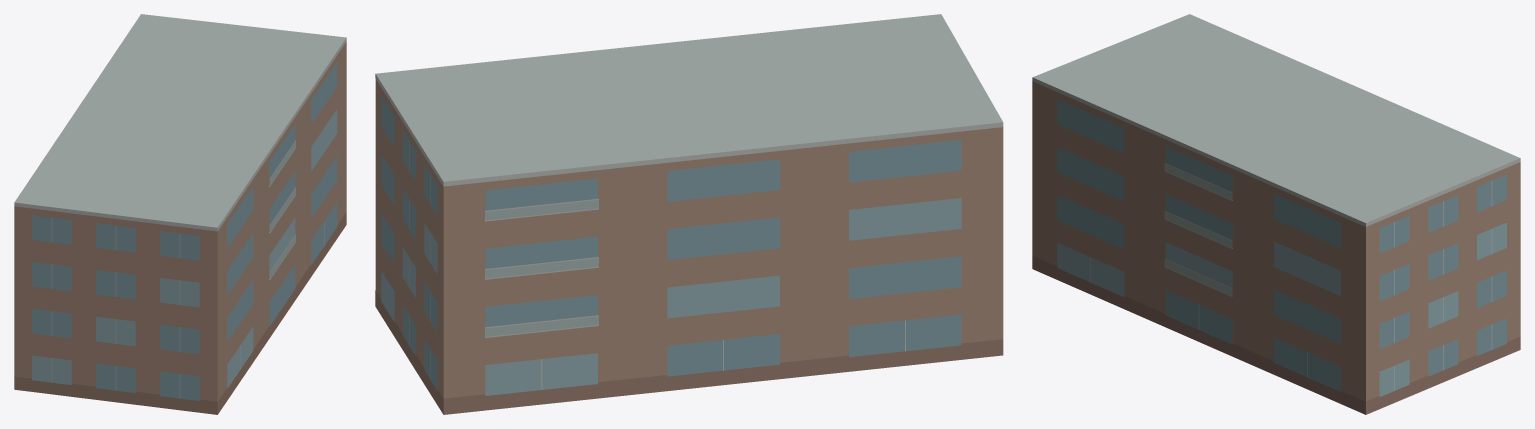
The model's file is survey-upis-32499853.glb.
3 views of the same model, side by side, from view 1: azimuth 30°, elevation 25°; view 2: azimuth 150°, elevation 25°; view 3: azimuth 270°, elevation 25° (orthographic). The views are drawn at different scales.
Parts seen in each view (by area): view 1: survey-upis-32499853.tmp; view 2: survey-upis-32499853.tmp; view 3: survey-upis-32499853.tmp.
Boxes of the visible parts, left/top/right/bottom form: survey-upis-32499853.tmp: left=14, top=14, right=346, bottom=414; survey-upis-32499853.tmp: left=375, top=14, right=1003, bottom=414; survey-upis-32499853.tmp: left=1032, top=14, right=1520, bottom=414.
Bounding box in the file's own units: 28.55 × 12.2 × 28.15.
